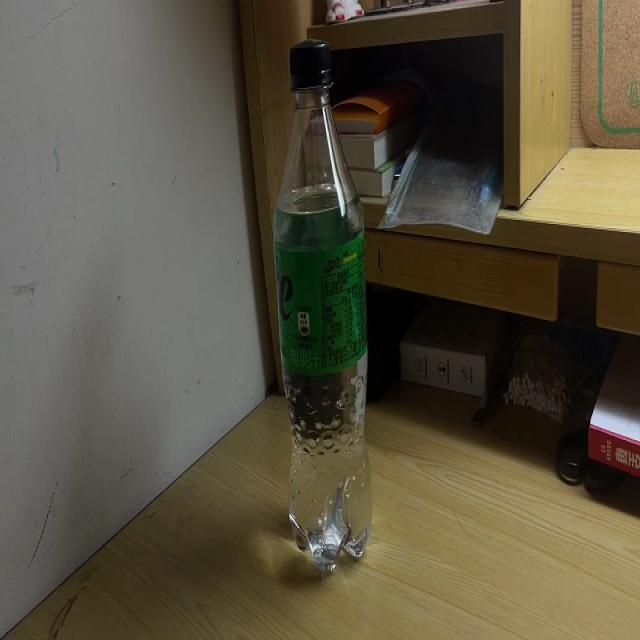Sprite: (269, 40, 369, 573)
